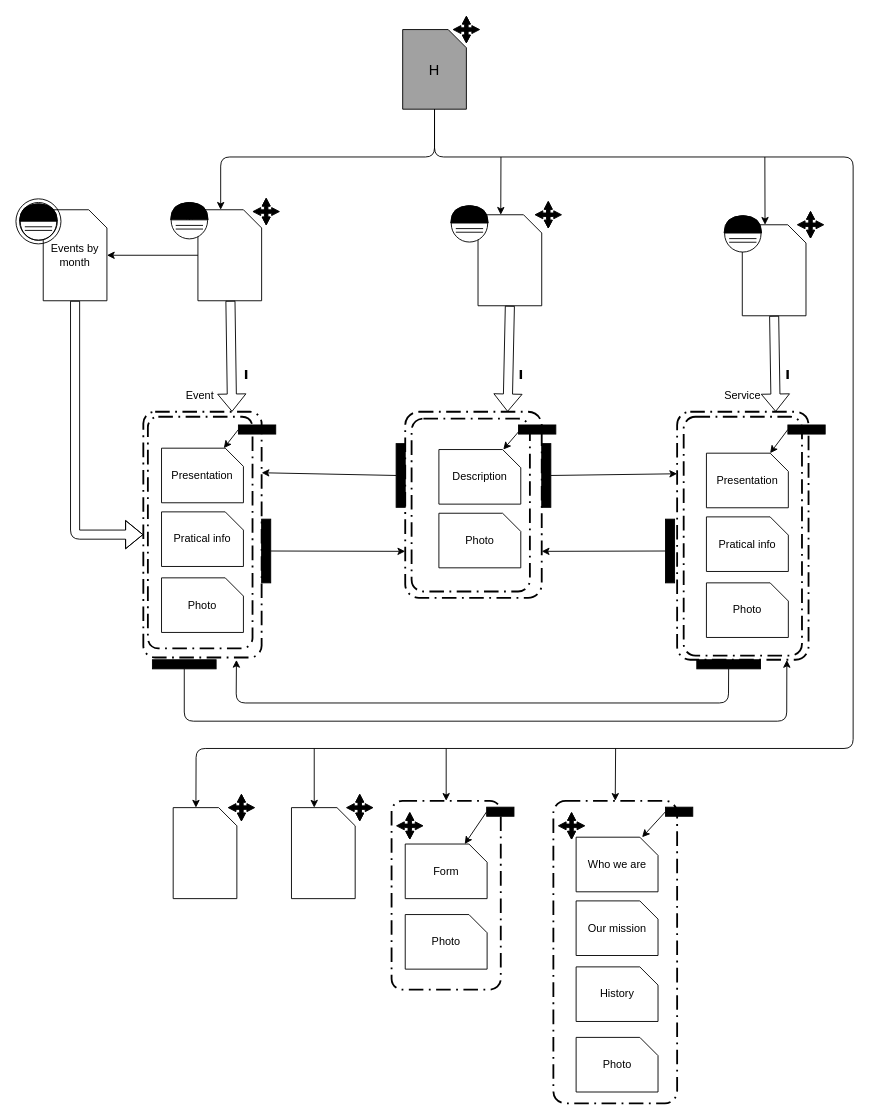
Image size: 876x1119. Some labels were removed from this diagram. Each missing label, with the box of its shape:
About us: (552, 799, 678, 1104)
All events: (197, 209, 262, 301)
All people: (477, 214, 542, 306)
All services: (741, 224, 806, 316)
Contact form: (390, 799, 501, 990)
Donate: (172, 807, 237, 899)
Person: (410, 417, 530, 592)
Related social: (291, 807, 355, 899)
